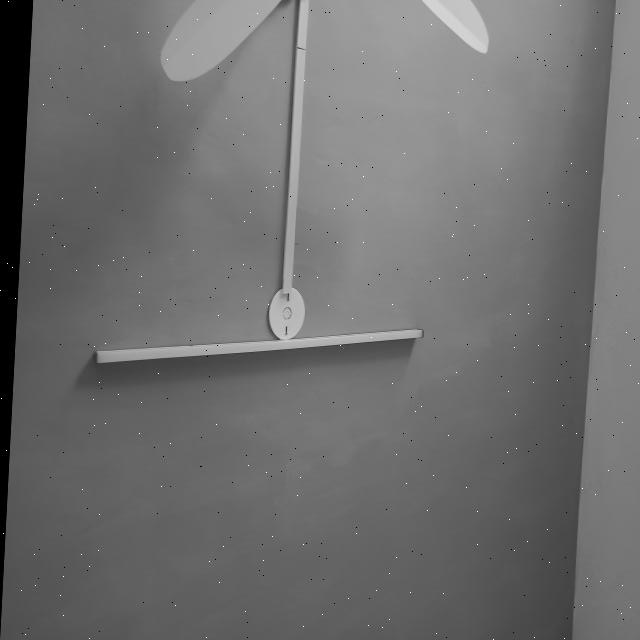fluorescent tube: (80, 298, 426, 390)
